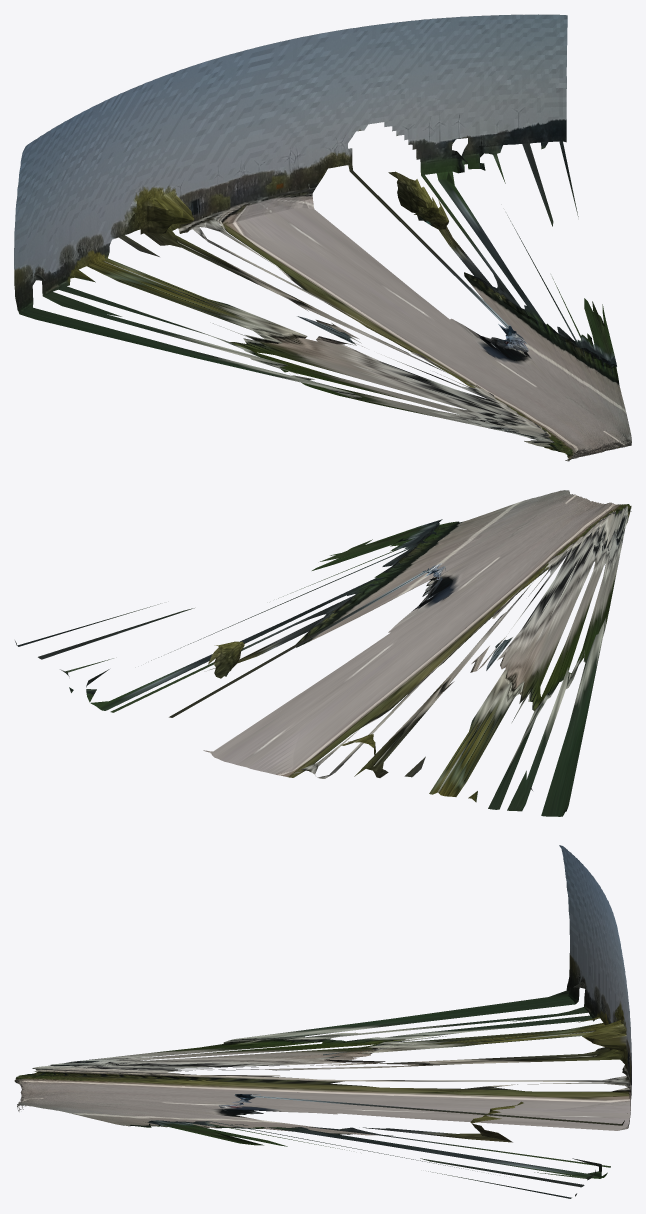
3 renders of one model, top to bottom at view 1: azimuth 30°, elevation 25°; view 2: azimuth 150°, elevation 25°; view 3: azimuth 270°, elevation 25°, orthographic. The views are drawn at different scales.
Parts seen in each view (by area): view 1: defaultobject; view 2: defaultobject; view 3: defaultobject.
Boxes of the visible parts, x1,y1,x2,y2 form: defaultobject: [14, 14, 631, 461]; defaultobject: [15, 490, 631, 816]; defaultobject: [14, 845, 631, 1198].
Size of the model in its own units: 41.16 by 12.92 by 44.6.
1 material, 1 textured.
